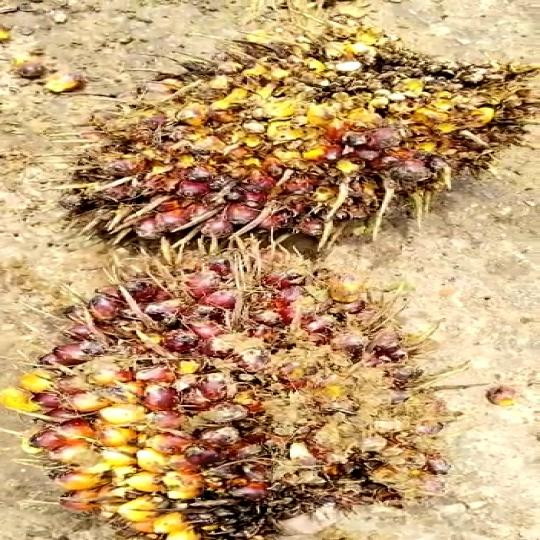masak: (0, 244, 451, 539), (44, 28, 540, 264)
